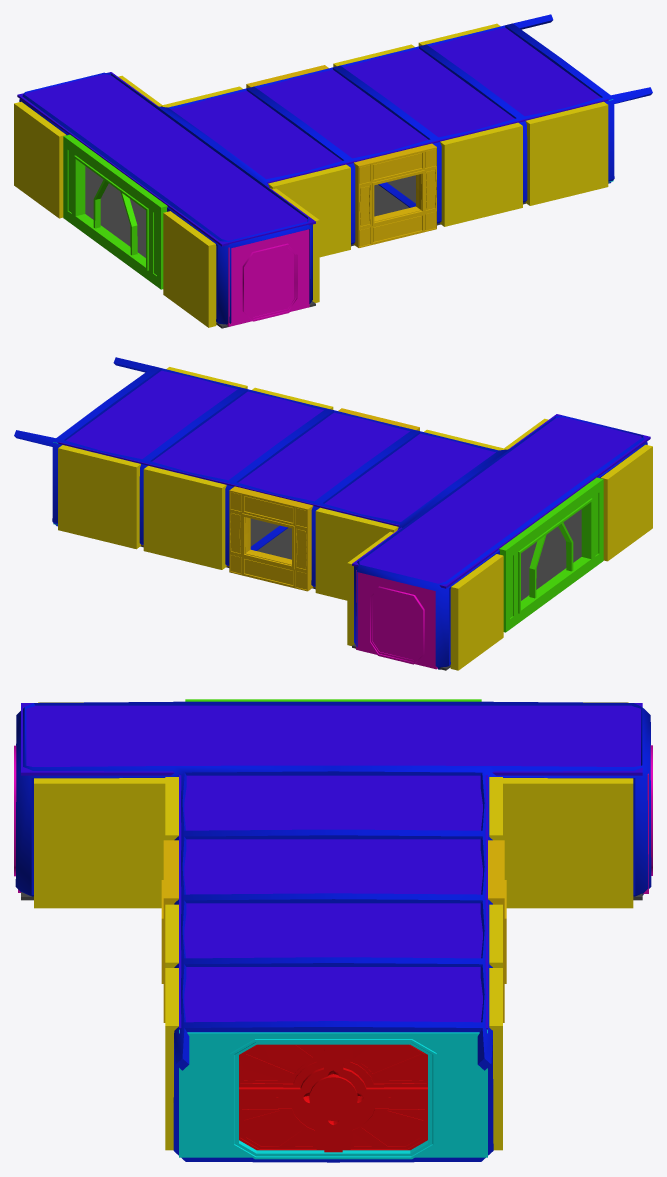
The model's file is Env_build.fbx.
The picture shows the model from 3 angles, top to bottom: view 1: azimuth 30°, elevation 25°; view 2: azimuth 150°, elevation 25°; view 3: azimuth 270°, elevation 25°; orthographic projection. The views are drawn at different scales.
Visible parts, largest first — view 1: Roof, Frame_01, wall, wall.001, Window_Big, wall_window, Frame_02, wall.007, wall.009, wall.002, floor, small_door_L (+3 smaller); view 2: Roof, Frame_01, wall.004, wall.003, Window_Big, wall_window.001, Frame_02, wall.009, wall.007, wall.005, floor, small_door_R (+3 smaller); view 3: Roof, Frame_01, Circle, wall.006, wall.008, Frame_02, Big_Door_wall, Big_door_frame, wall.003, wall, Cylinder.001, wall_window (+6 smaller).
Part boxes in pixels (x1=…): Roof: x1=17, y1=27, x2=608, y2=246; Frame_01: x1=206, y1=14, x2=652, y2=244; wall: x1=525, y1=101, x2=608, y2=205; wall.001: x1=440, y1=122, x2=522, y2=226; Window_Big: x1=63, y1=134, x2=167, y2=289; wall_window: x1=353, y1=143, x2=436, y2=247; Frame_02: x1=19, y1=72, x2=312, y2=324; wall.007: x1=163, y1=211, x2=216, y2=327; wall.009: x1=14, y1=101, x2=66, y2=218; wall.002: x1=268, y1=164, x2=350, y2=257; floor: x1=85, y1=166, x2=608, y2=328; small_door_L: x1=246, y1=247, x2=294, y2=316; Roof: x1=58, y1=370, x2=650, y2=588; Frame_01: x1=14, y1=357, x2=460, y2=586; wall.004: x1=143, y1=466, x2=226, y2=569; wall.003: x1=58, y1=445, x2=140, y2=549; Window_Big: x1=499, y1=477, x2=603, y2=632; wall_window.001: x1=229, y1=486, x2=313, y2=591; Frame_02: x1=354, y1=415, x2=647, y2=669; wall.009: x1=450, y1=554, x2=503, y2=670; wall.007: x1=601, y1=444, x2=652, y2=561; wall.005: x1=315, y1=507, x2=398, y2=600; floor: x1=140, y1=509, x2=581, y2=670; small_door_R: x1=372, y1=590, x2=420, y2=659; Roof: x1=21, y1=703, x2=642, y2=1029; Frame_01: x1=173, y1=803, x2=493, y2=1162; Circle: x1=239, y1=1044, x2=427, y2=1152; wall.006: x1=34, y1=778, x2=165, y2=908; wall.008: x1=503, y1=778, x2=633, y2=908; Frame_02: x1=15, y1=701, x2=651, y2=896; Big_Door_wall: x1=179, y1=1029, x2=487, y2=1157; Big_door_frame: x1=230, y1=1039, x2=436, y2=1159; wall.003: x1=489, y1=968, x2=502, y2=1150; wall: x1=165, y1=968, x2=178, y2=1150; Cylinder.001: x1=309, y1=1074, x2=357, y2=1120; wall_window: x1=161, y1=840, x2=178, y2=1022.
Bounding box in the file's own units: 2503 × 436 × 1861.
